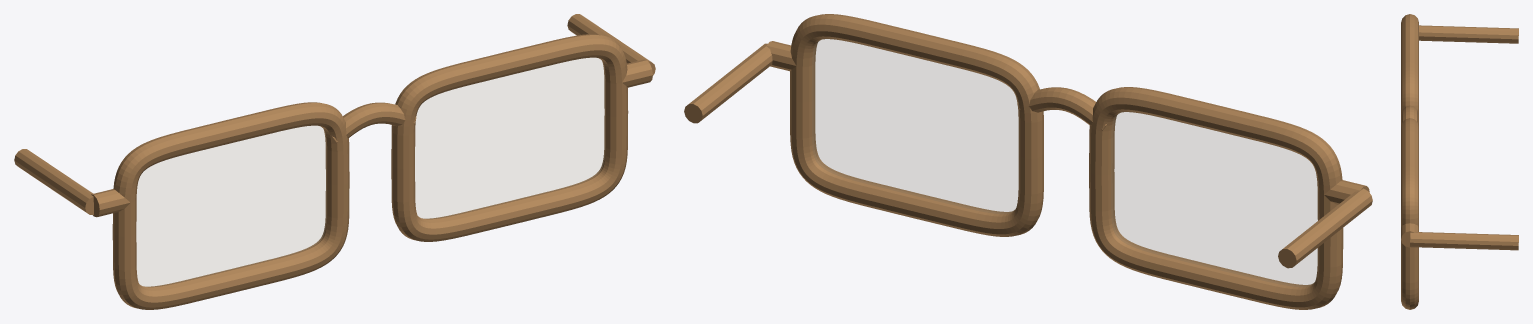
File: tortoise_rect.glb
The picture shows the model from 3 angles, left to right: view 1: azimuth 30°, elevation 25°; view 2: azimuth 150°, elevation 25°; view 3: azimuth 270°, elevation 25°; orthographic projection. The views are drawn at different scales.
Visible parts, largest first — view 1: lenses, frame; view 2: lenses, frame; view 3: frame.
Part boxes in pixels (<box>): lenses: <box>136,58,604,286</box>; frame: <box>14,14,655,309</box>; lenses: <box>812,39,1317,286</box>; frame: <box>684,14,1372,309</box>; frame: <box>1401,14,1518,309</box>.
Size of the model in its own units: 0.1392 by 0.04 by 0.0326.
